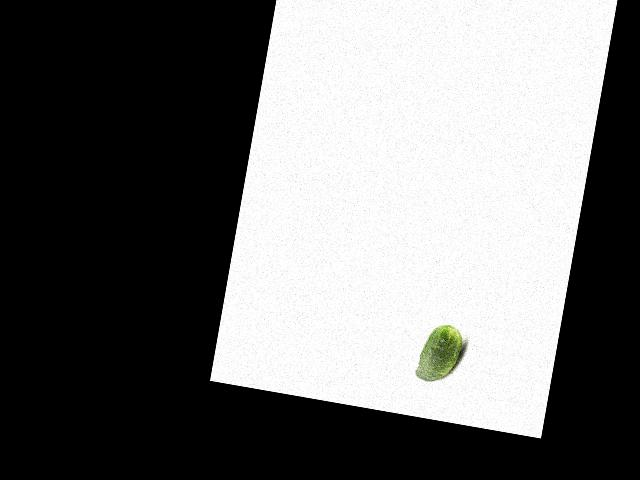cucumber: (414, 320, 465, 386)
